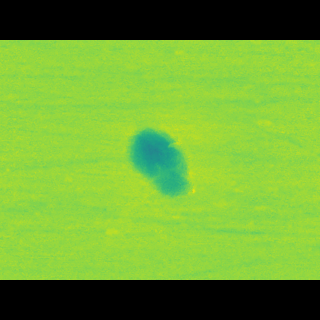Loch: (123, 134, 197, 191)
